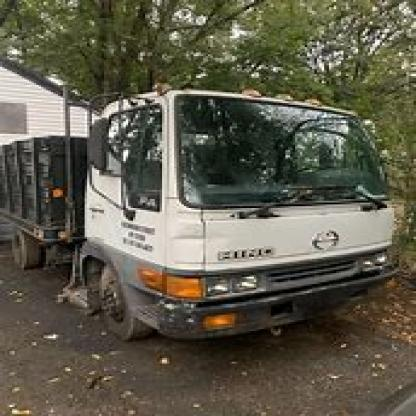dump_truck: (7, 67, 409, 349)
